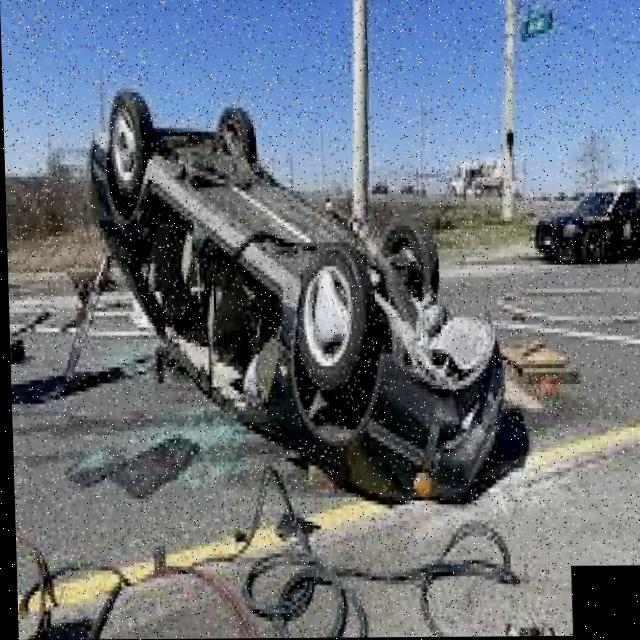single accident: (17, 53, 535, 548)
